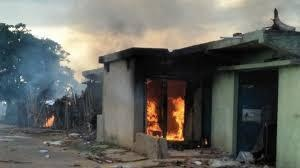fire: (143, 83, 187, 142), (42, 112, 57, 128)
